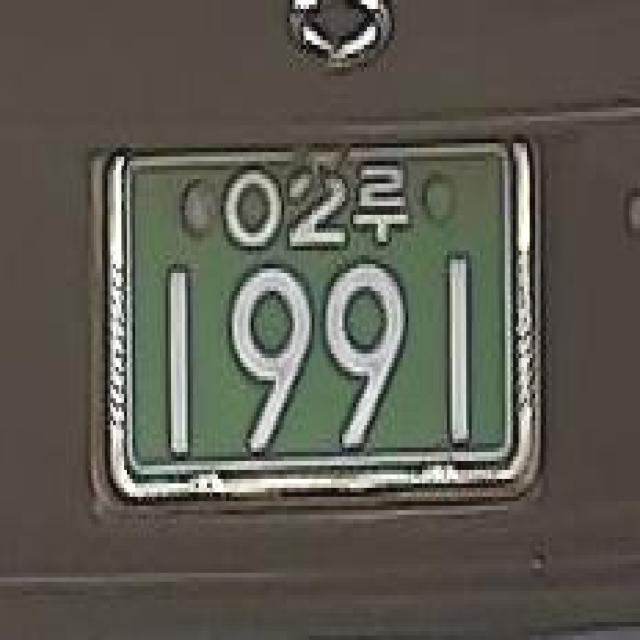illegal_plate: (83, 121, 550, 519)
